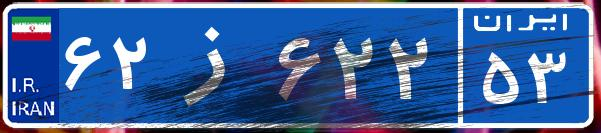2: (385, 28, 445, 110), (330, 28, 385, 110), (110, 28, 158, 105)
3: (525, 38, 570, 115)
5: (475, 38, 525, 113)
6: (273, 28, 330, 110), (57, 26, 110, 107)
ز: (158, 15, 273, 115)
